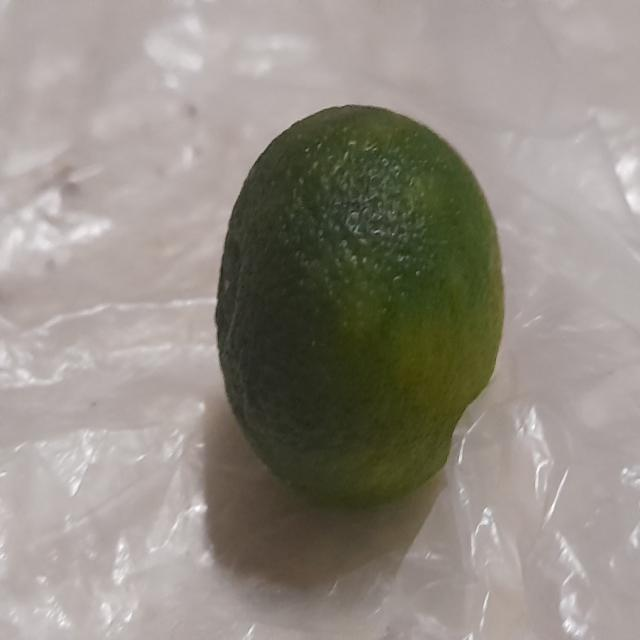heathy: (208, 99, 512, 512)
